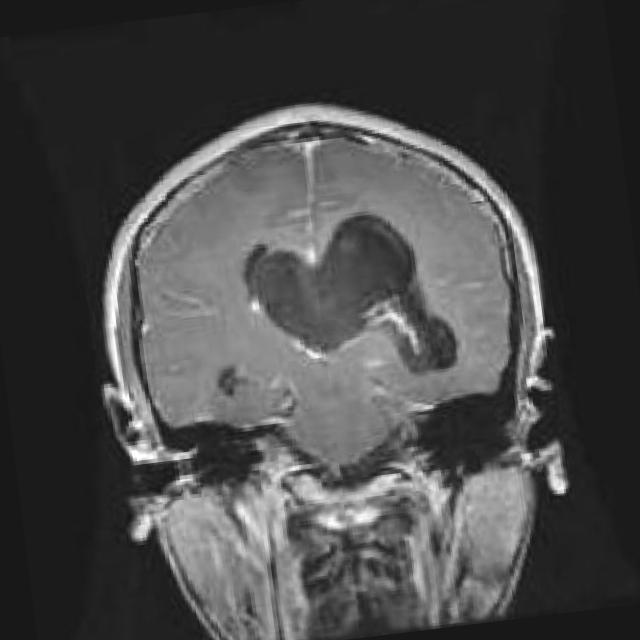EMCI: (320, 188, 479, 406)
